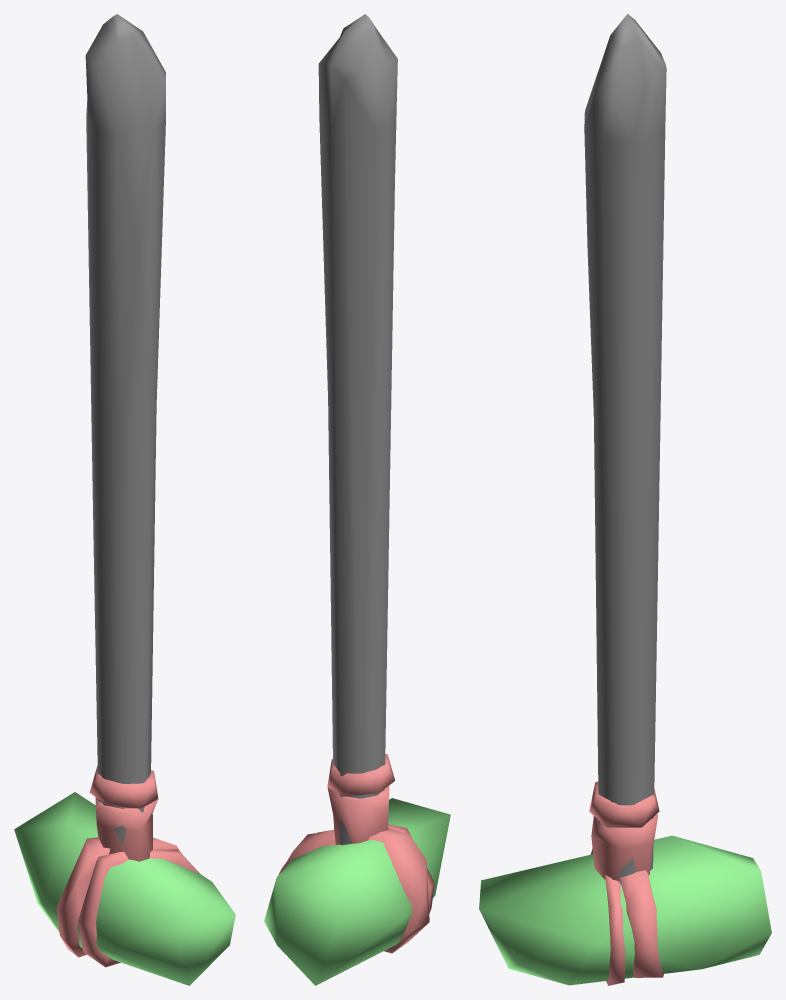
Rendered from hammer_item_generic_village_A.gltf.
The picture shows the model from 3 angles, left to right: view 1: azimuth 30°, elevation 25°; view 2: azimuth 150°, elevation 25°; view 3: azimuth 270°, elevation 25°; orthographic projection. The views are drawn at different scales.
Parts seen in each view (by area): view 1: hammer_item_generic_village_A; view 2: hammer_item_generic_village_A; view 3: hammer_item_generic_village_A.
Boxes of the visible parts, x1,y1,x2,y2 form: hammer_item_generic_village_A: [14, 14, 235, 985]; hammer_item_generic_village_A: [264, 14, 450, 985]; hammer_item_generic_village_A: [479, 14, 771, 985].
Bounding box in the file's own units: 0.1873 × 1.2 × 0.336.
